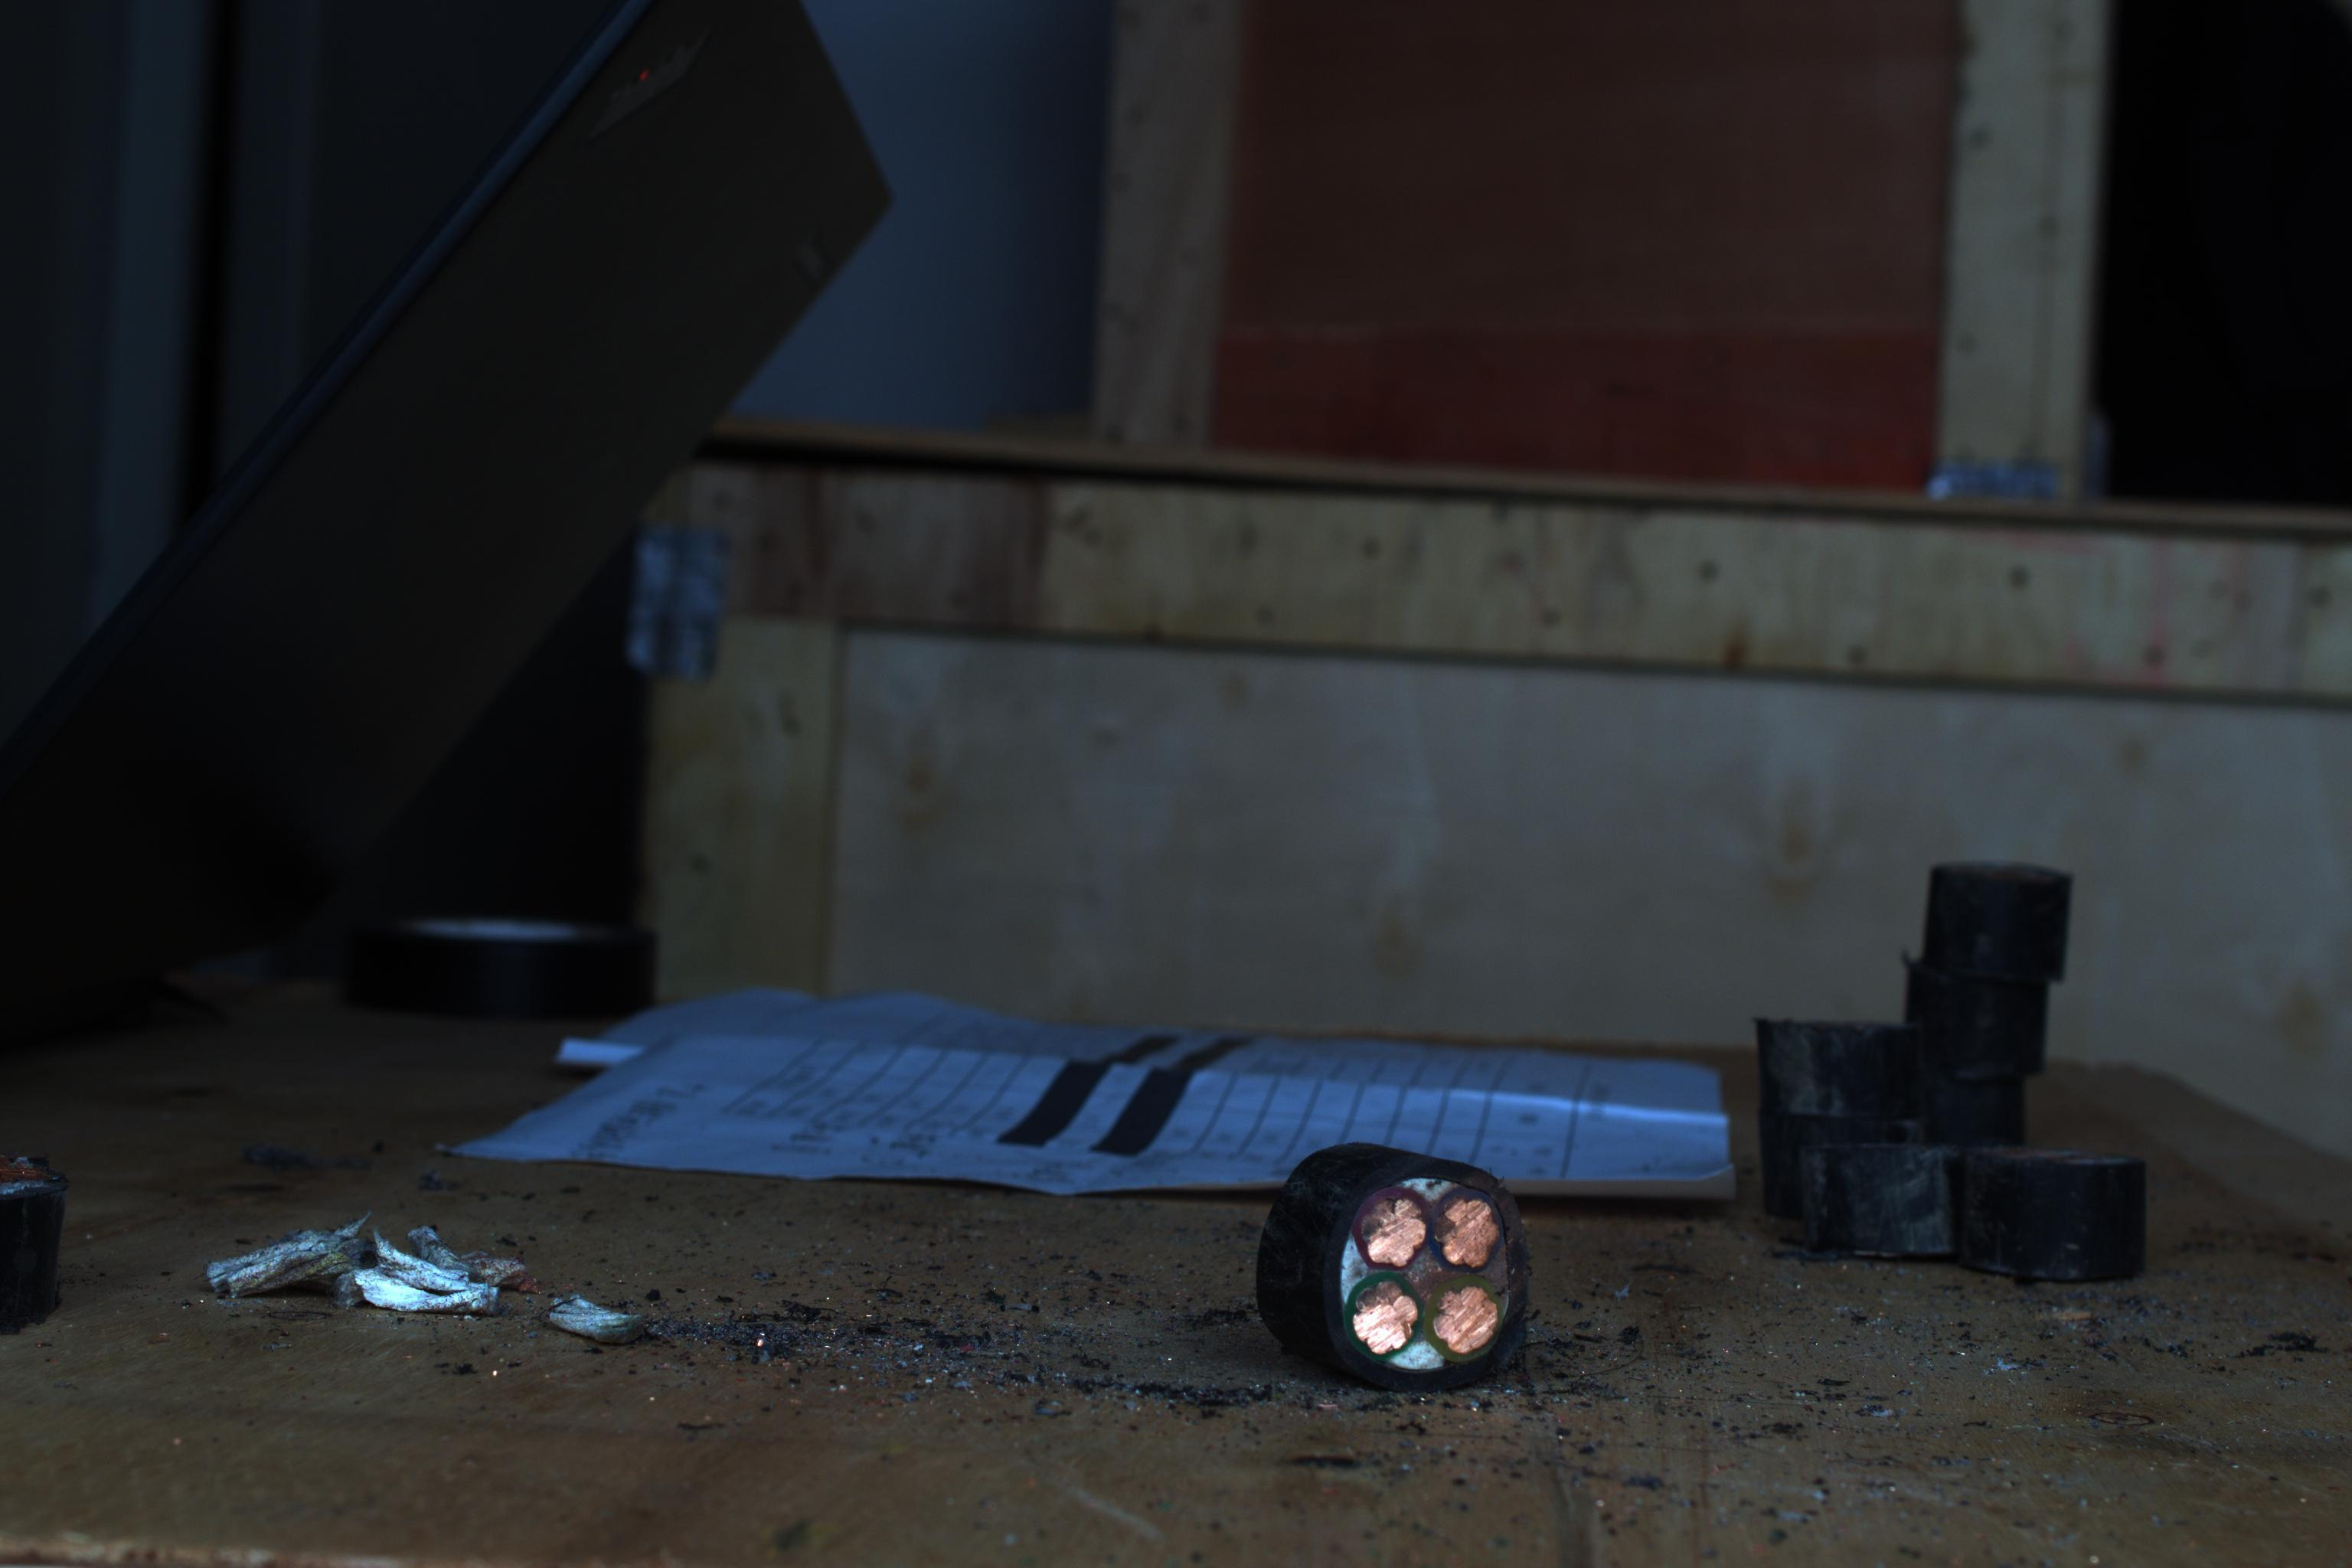YJV_0.6_1kV_4x35: (1284, 1130, 1552, 1381)
